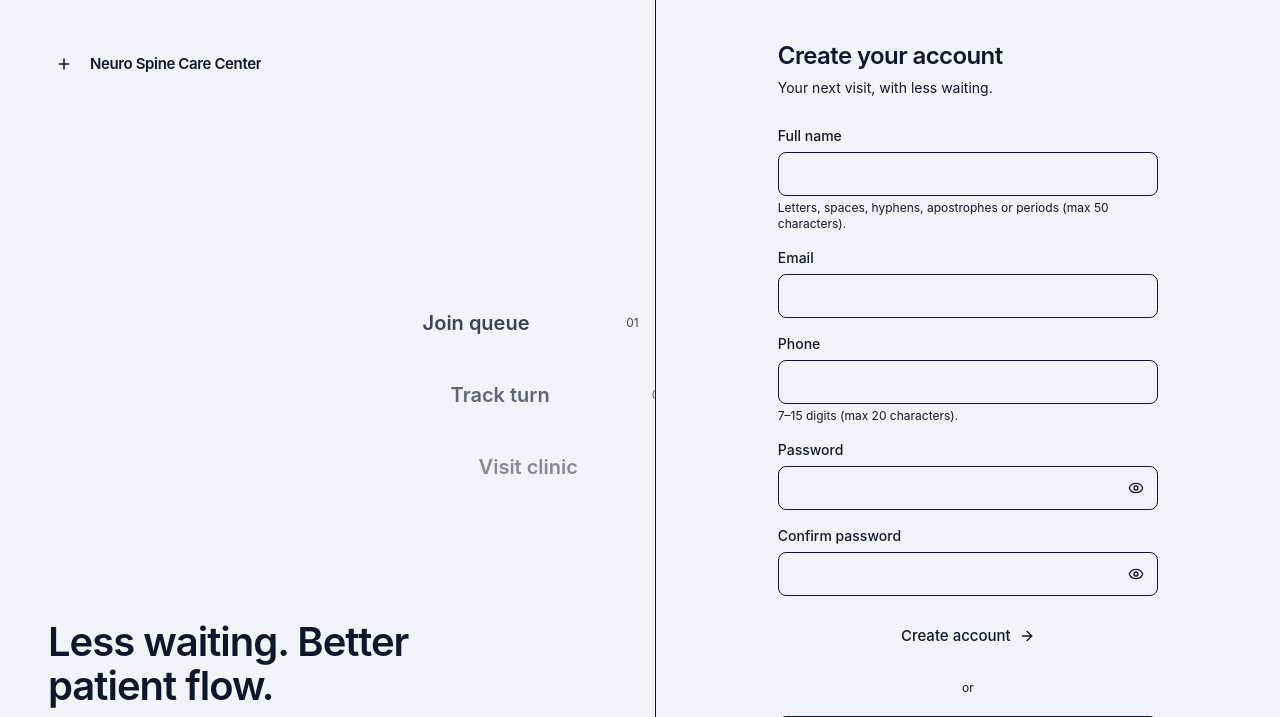
Test case: Audit fixes verification › Fix 7: Validation rejects oversized name/phone and SQL/script injection on Register
Step 1. Type "SELECT * FROM users" into the field labelled "Full name" → (968, 174), box [778,152,1158,196]
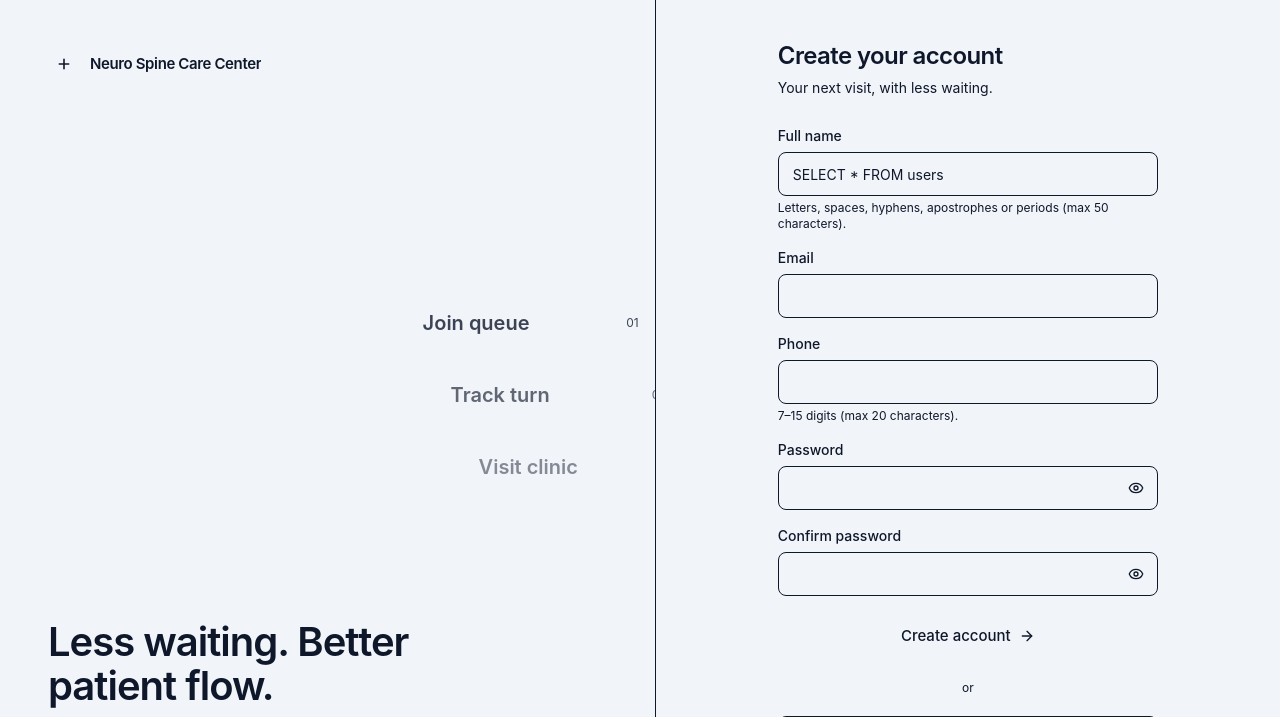
Step 2. Type "test@example.com" into the field labelled "Email" → (968, 296), box [778,274,1158,318]
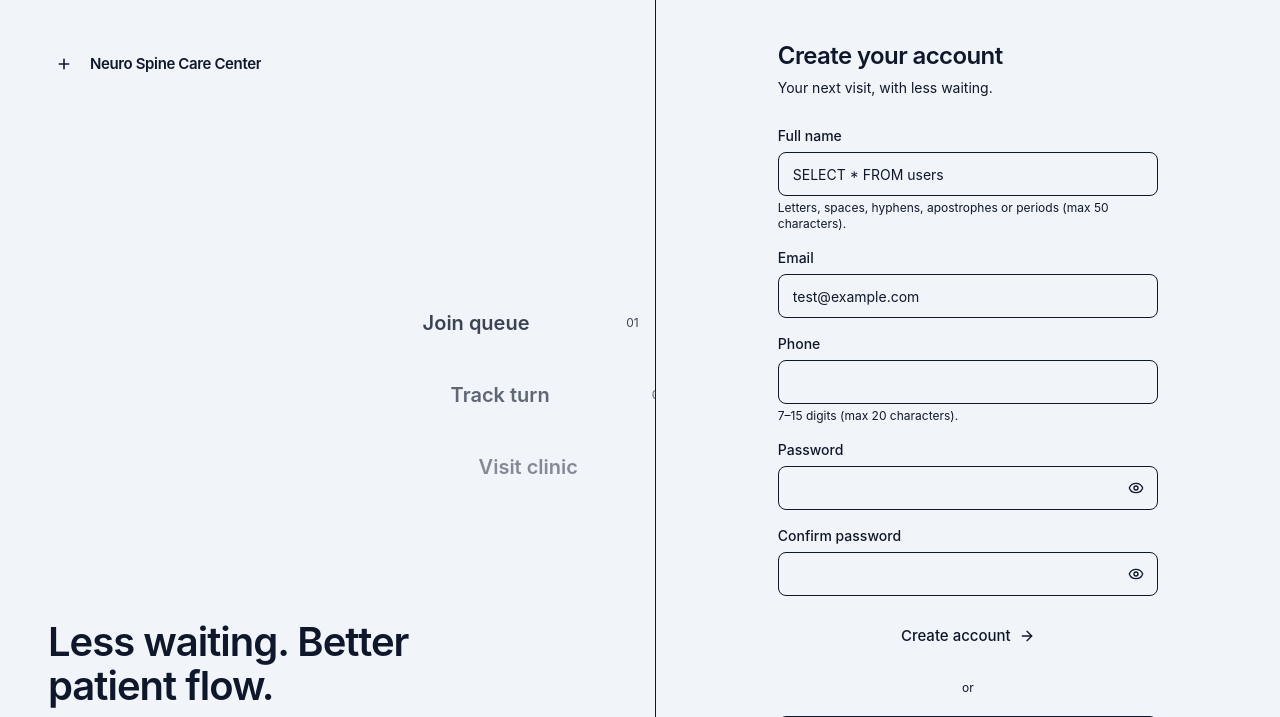
Step 3. Type "03001234567" into the field labelled "Phone" → (968, 382), box [778,360,1158,404]
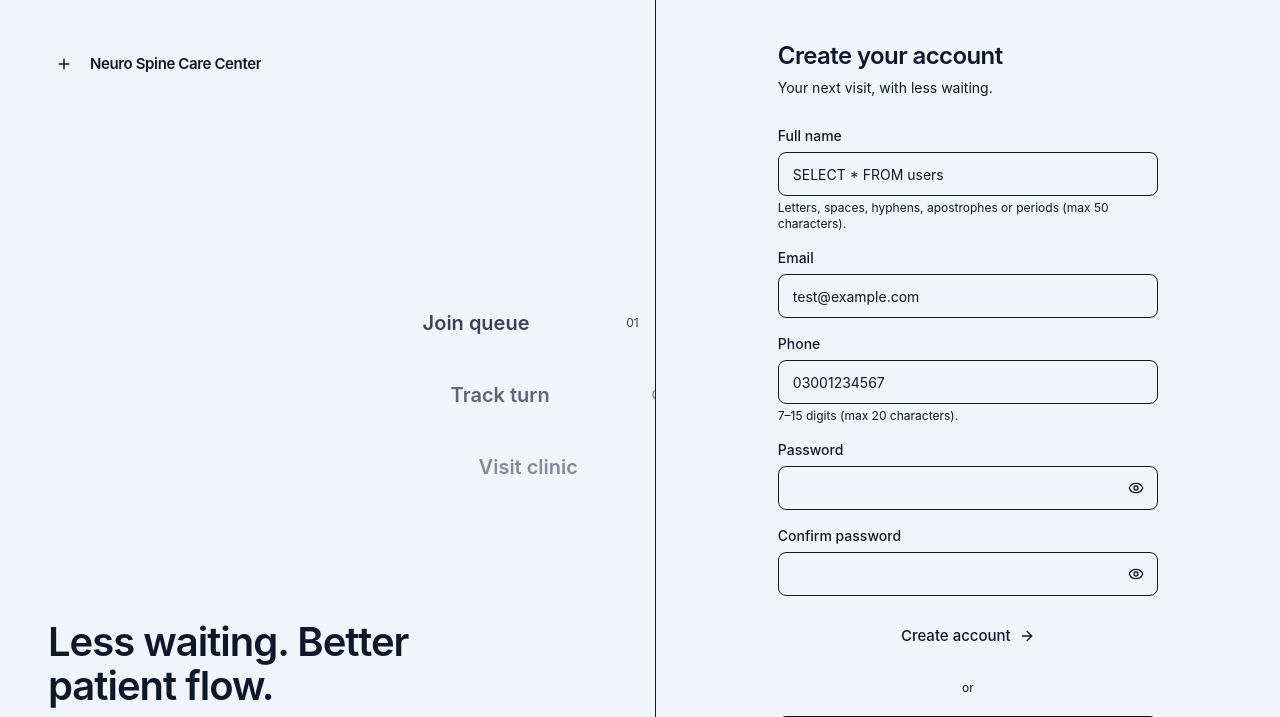
Step 4. Type "StrongPass123!" into the password field labelled "Password" → (968, 488), box [778,466,1158,510]
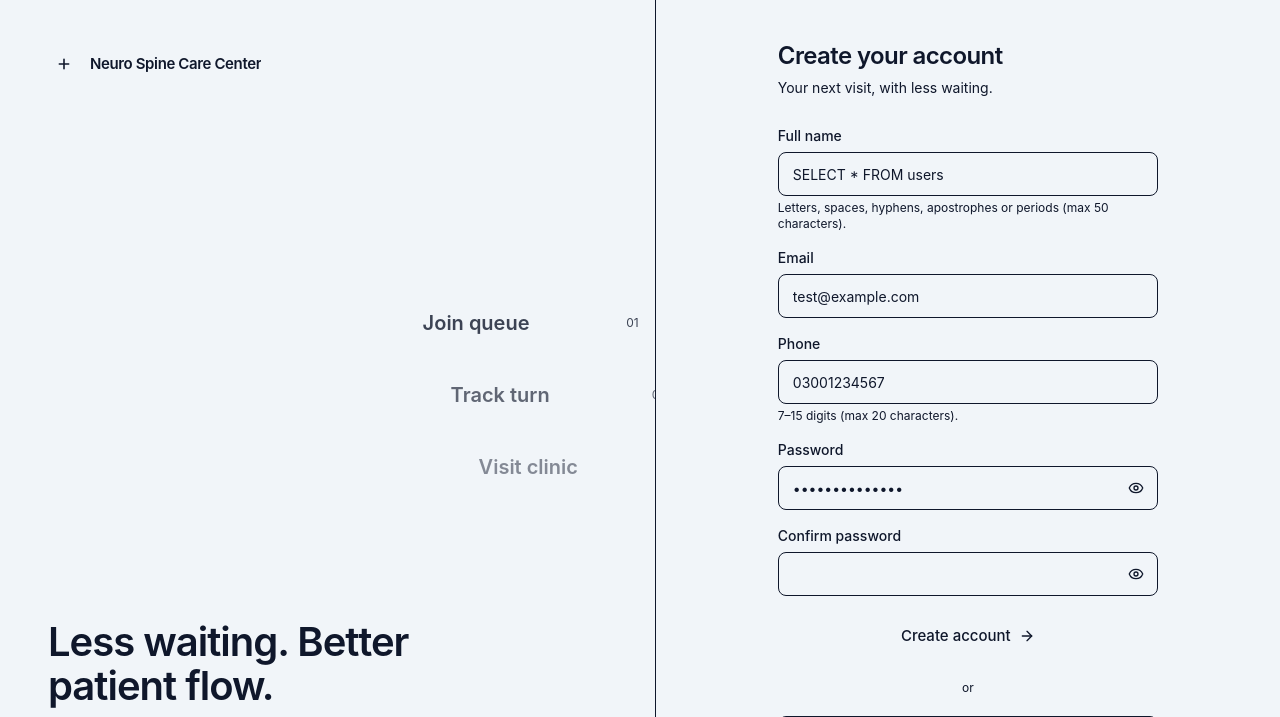
Step 5. Type "StrongPass123!" into the password field labelled "Confirm password" → (968, 574), box [778,552,1158,596]
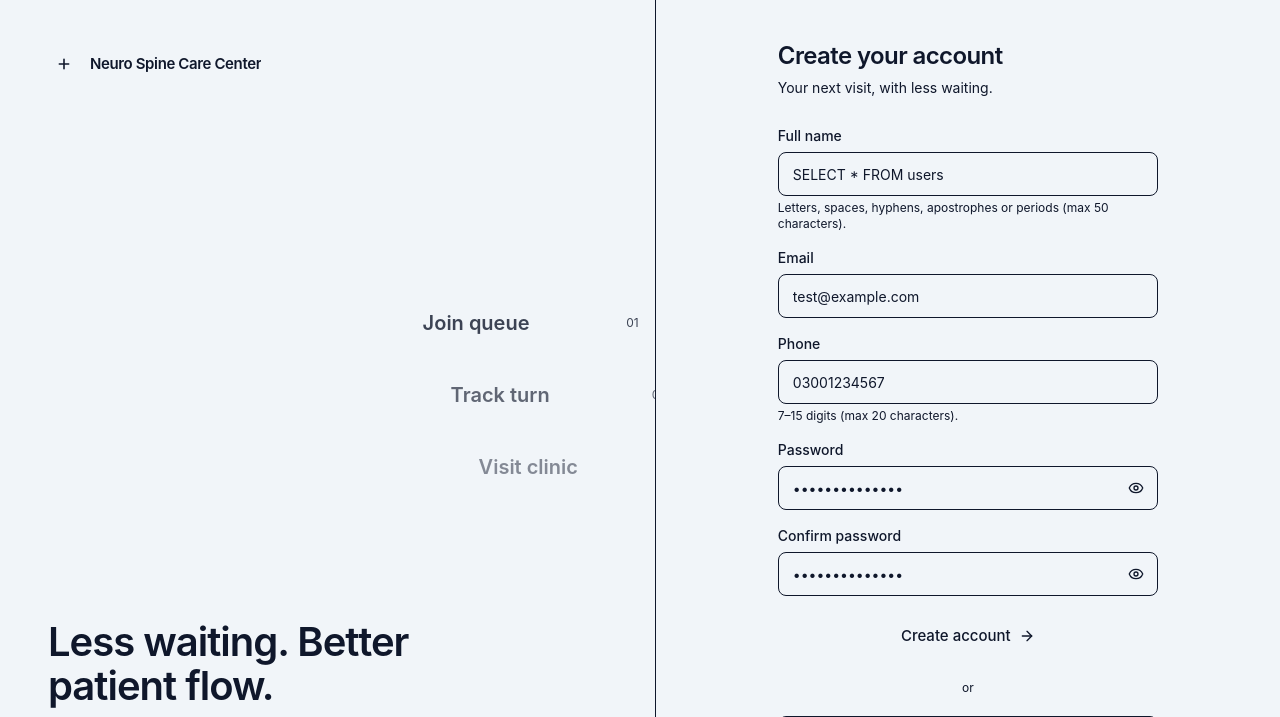
Step 6. Click the button "Create account" → (968, 636), box [778,612,1158,660]
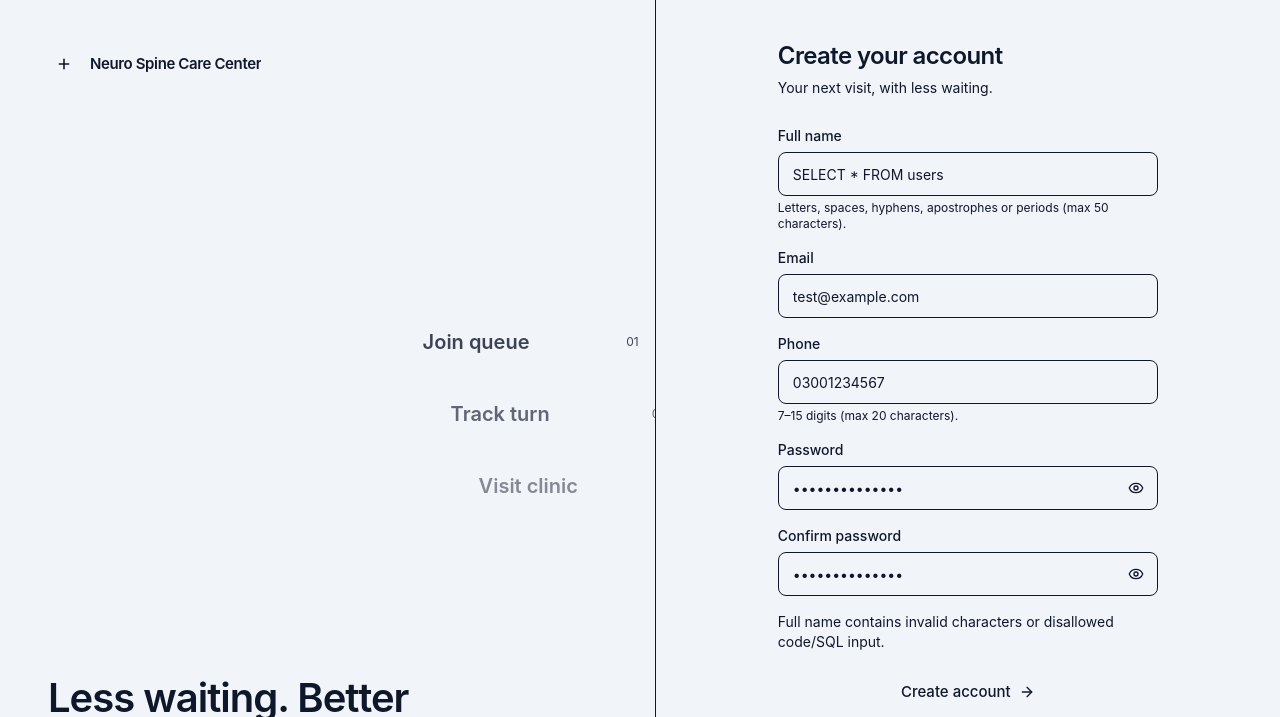
Check: the message shows "disallowed", box [778,613,1114,650]
